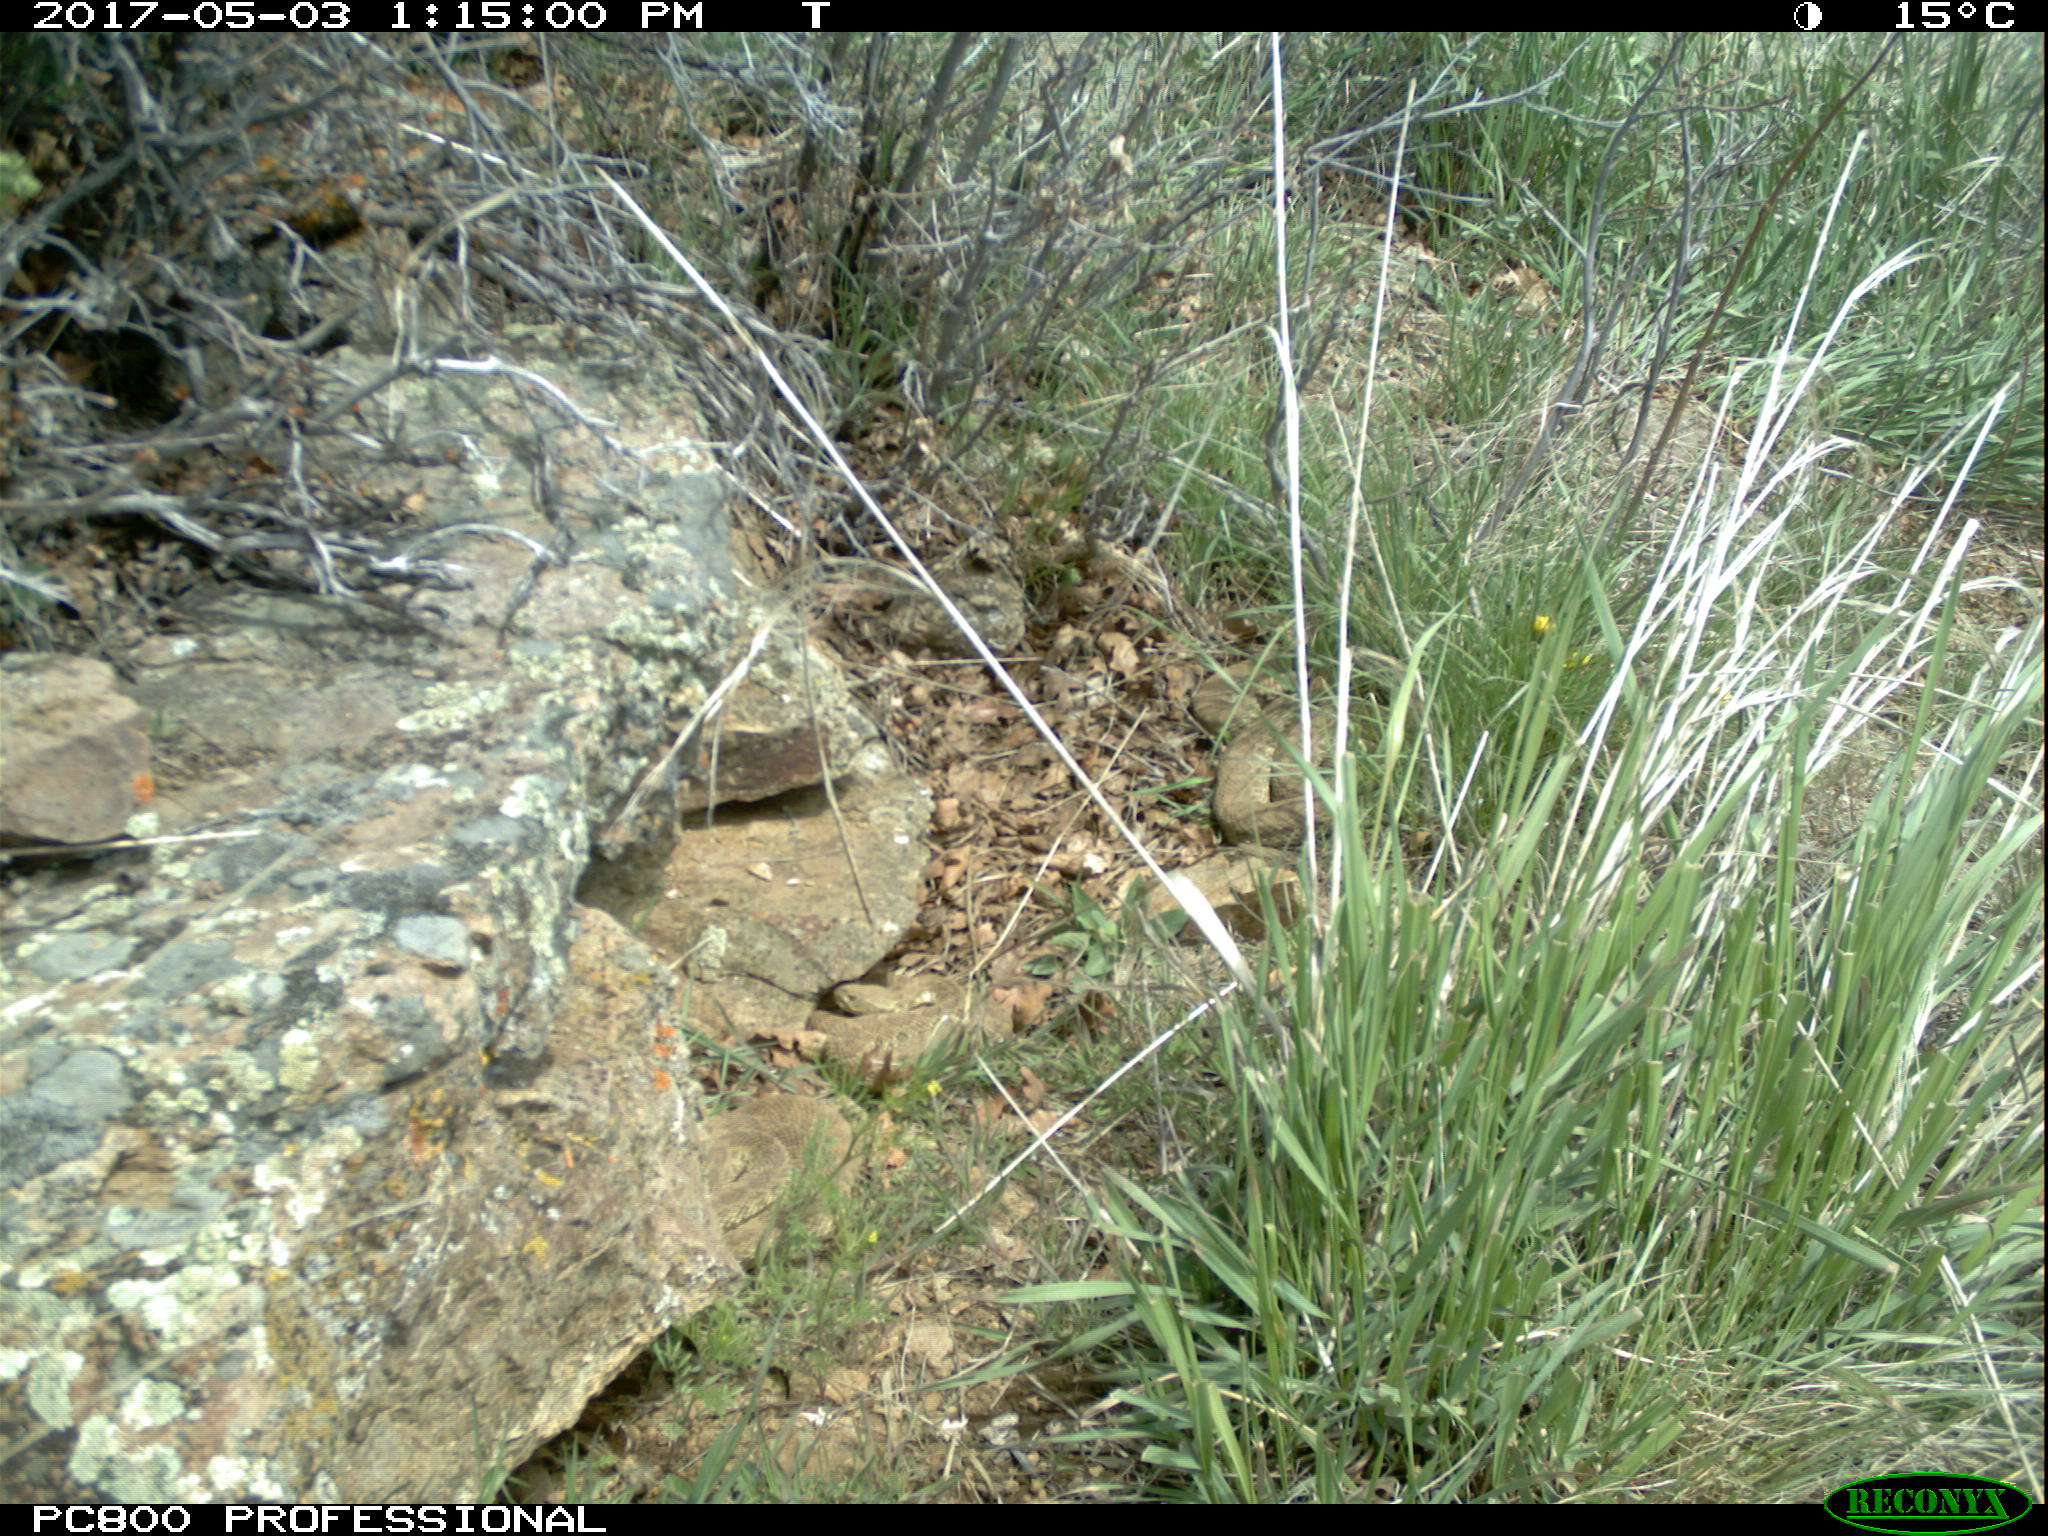snake: (1187, 652, 1392, 858), (698, 1091, 887, 1255), (818, 970, 1018, 1079)
